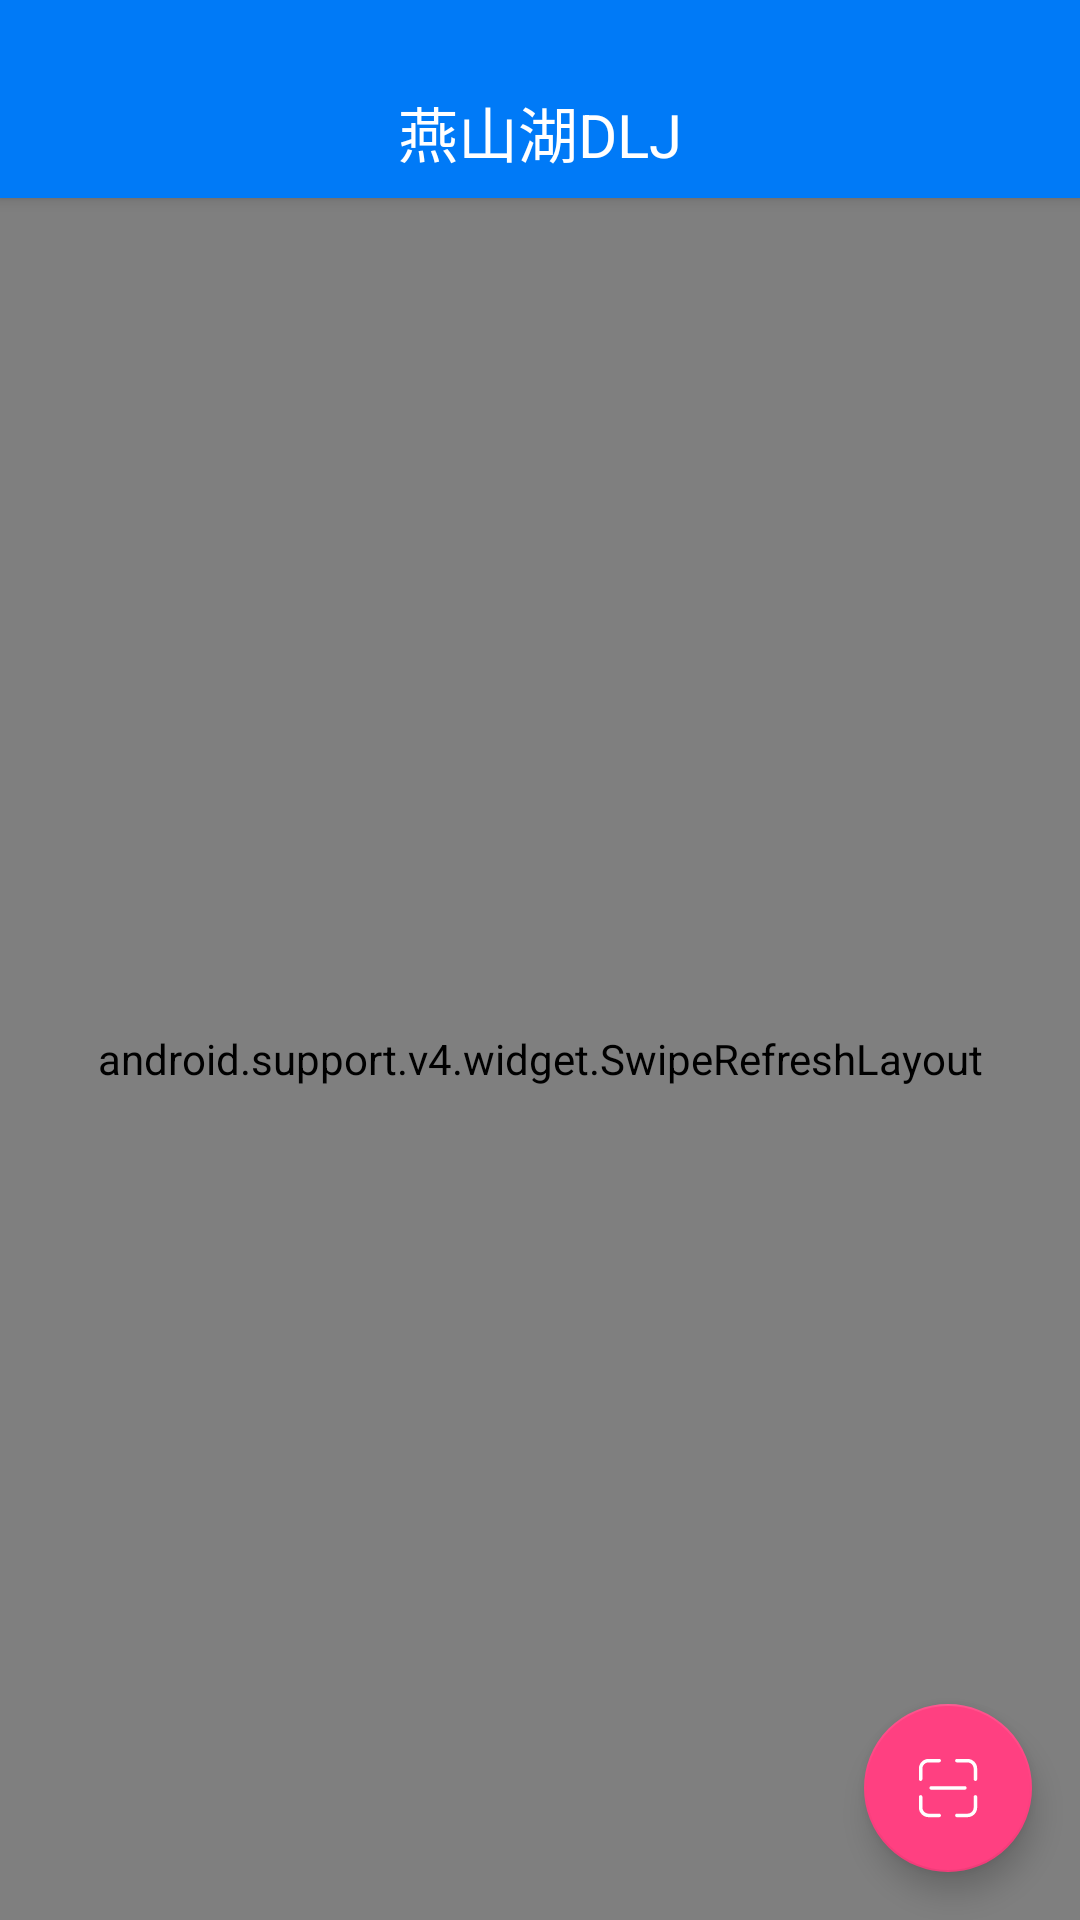

Named icons in this screenshot (1080w x 1920h) and their bounding boxes, (x1,y1,x2,y2):
scan: (864,1704,1032,1872)
